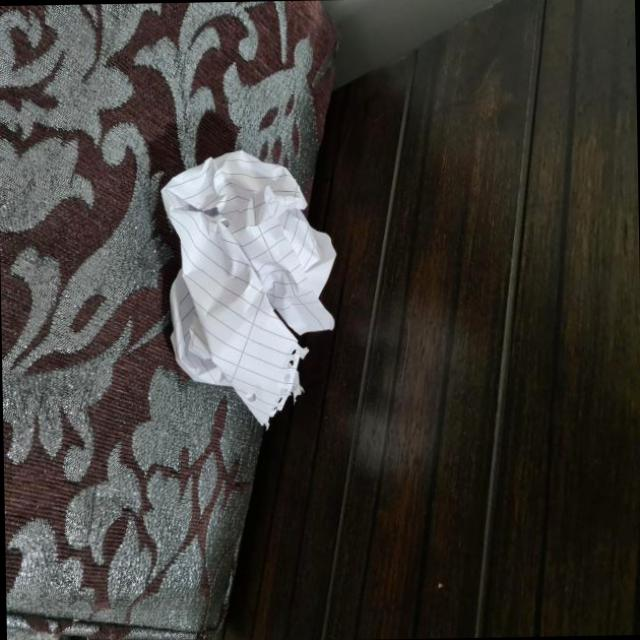cardboard paper: (162, 153, 335, 426)
